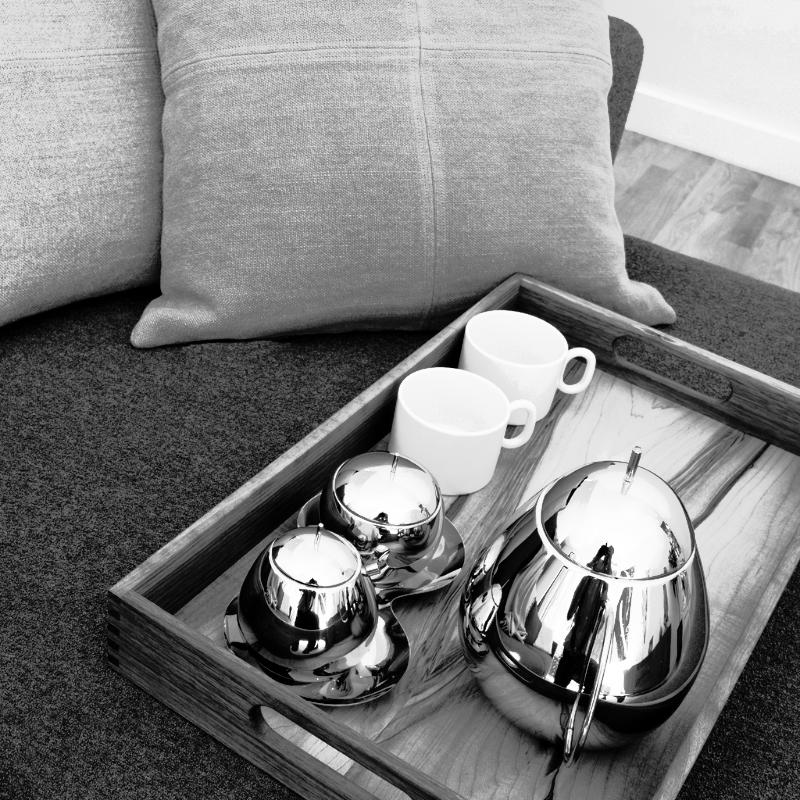pillow: (127, 0, 695, 346), (1, 0, 167, 340)
